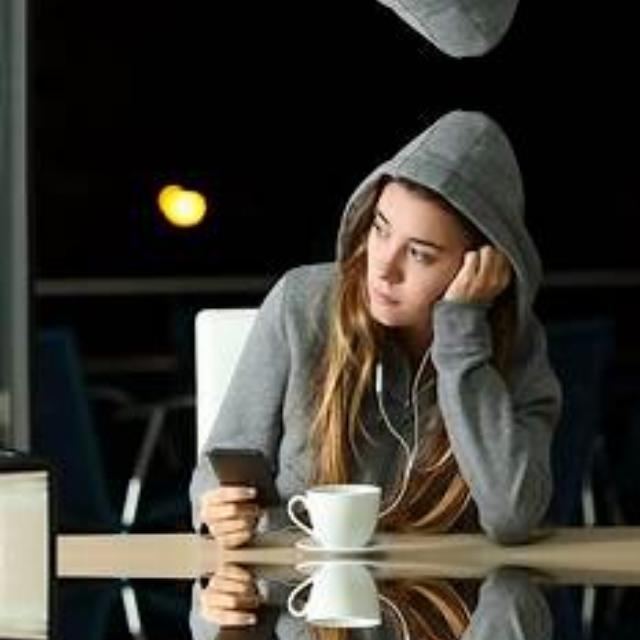person: (221, 123, 583, 543), (221, 568, 583, 640), (221, 0, 583, 43)
